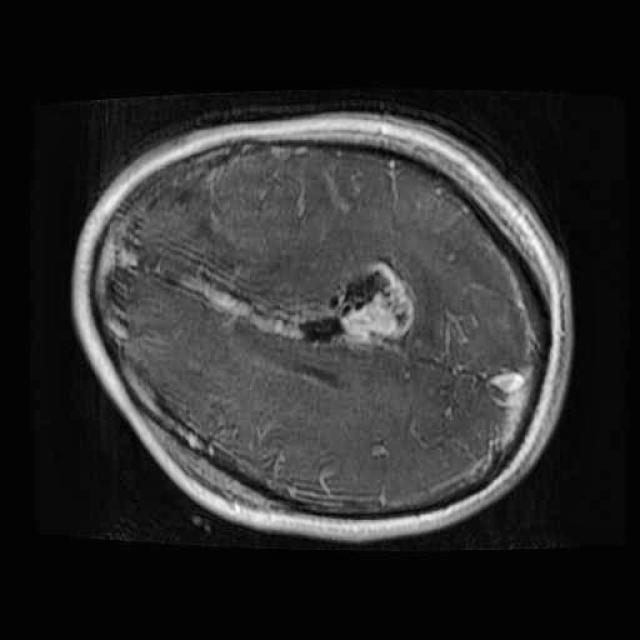Tumor: (293, 246, 422, 362)
